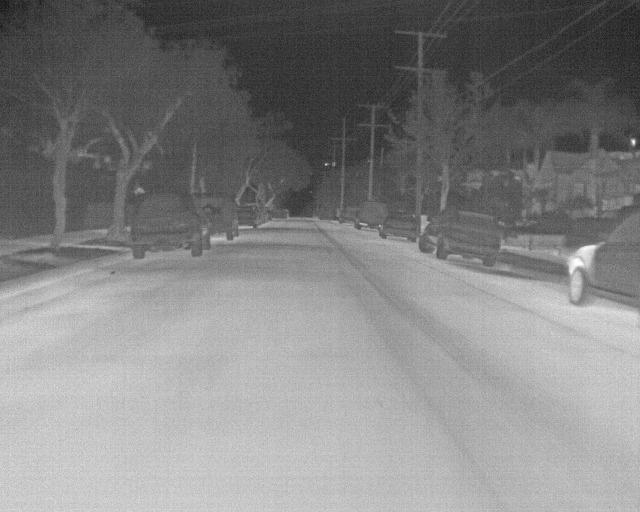car: (565, 211, 639, 306), (132, 191, 209, 258), (418, 207, 501, 268), (194, 190, 239, 240), (380, 209, 419, 241), (355, 200, 387, 230), (236, 204, 267, 227), (337, 206, 359, 224)
